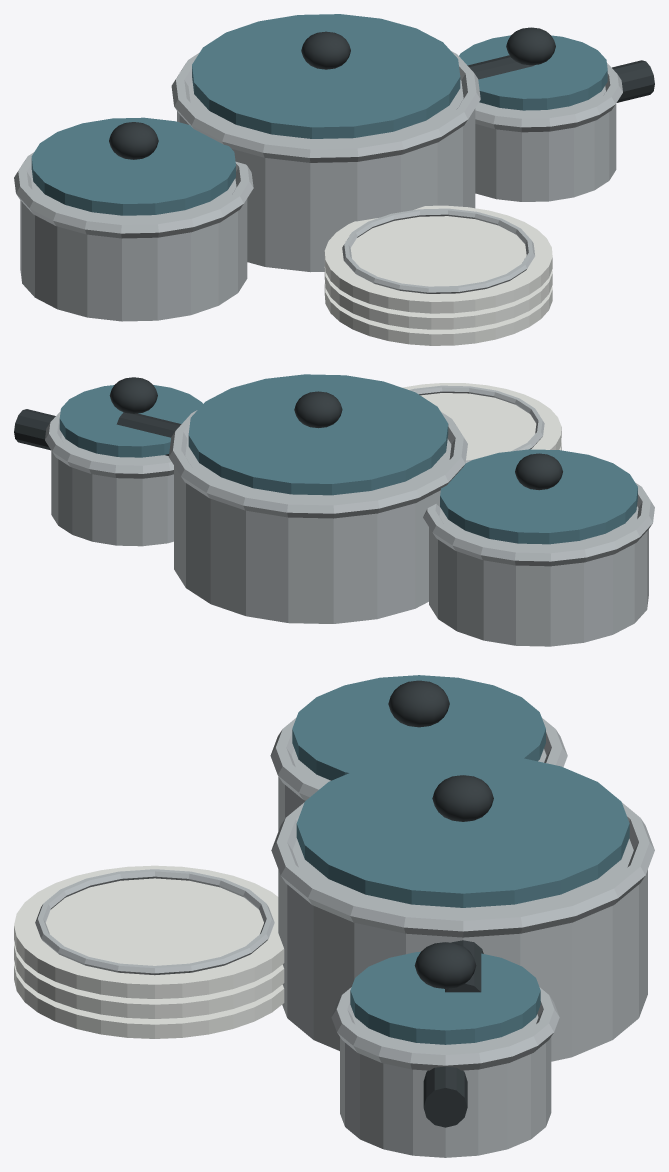
File: pots_and_plates_silver.glb
The picture shows the model from 3 angles, top to bottom: view 1: azimuth 30°, elevation 25°; view 2: azimuth 150°, elevation 25°; view 3: azimuth 270°, elevation 25°; orthographic projection. The views are drawn at different scales.
Parts seen in each view (by area): view 1: tempered lid.001, saucepan.001, saucepan, stacked plate.002, tempered lid, saucepan.002, tempered lid.002, rolled rim.001, rolled rim, stacked plate, stacked plate.001, plate rim.002 (+6 smaller); view 2: saucepan.001, tempered lid.001, saucepan, tempered lid, saucepan.002, rolled rim.001, tempered lid.002, stacked plate.002, rolled rim, rolled rim.002, lid knob, lid knob.001 (+4 smaller); view 3: tempered lid.001, saucepan.001, stacked plate.002, saucepan.002, tempered lid, tempered lid.002, rolled rim.001, rolled rim.002, stacked plate.001, stacked plate, plate rim.002, pan handle.002 (+6 smaller).
Boxes of the visible parts, left/top/right/bottom form: tempered lid.001: left=192, top=14, right=460, bottom=138; saucepan.001: left=177, top=80, right=475, bottom=272; saucepan: left=20, top=176, right=247, bottom=321; stacked plate.002: left=324, top=205, right=552, bottom=313; tempered lid: left=31, top=117, right=235, bottom=215; saucepan.002: left=475, top=86, right=616, bottom=201; tempered lid.002: left=459, top=35, right=607, bottom=110; rolled rim.001: left=171, top=51, right=480, bottom=162; rolled rim: left=14, top=152, right=253, bottom=238; stacked plate: left=324, top=283, right=552, bottom=345; stacked plate.001: left=324, top=267, right=552, bottom=329; plate rim.002: left=342, top=208, right=534, bottom=293; saucepan.001: left=174, top=438, right=451, bottom=623; tempered lid.001: left=188, top=374, right=448, bottom=495; saucepan: left=429, top=506, right=648, bottom=646; tempered lid: left=440, top=449, right=637, bottom=544; saucepan.002: left=51, top=433, right=173, bottom=546; rolled rim.001: left=169, top=410, right=467, bottom=518; tempered lid.002: left=59, top=385, right=202, bottom=457; stacked plate.002: left=402, top=383, right=561, bottom=460; rolled rim: left=423, top=483, right=654, bottom=566; rolled rim.002: left=45, top=411, right=173, bottom=478; lid knob: left=515, top=453, right=562, bottom=490; lid knob.001: left=294, top=391, right=342, bottom=428; tempered lid.001: left=296, top=753, right=629, bottom=907; saucepan.001: left=278, top=839, right=647, bottom=1061; stacked plate.002: left=14, top=865, right=284, bottom=998; saucepan.002: left=340, top=1014, right=551, bottom=1157; tempered lid: left=292, top=675, right=545, bottom=780; tempered lid.002: left=350, top=951, right=540, bottom=1044; rolled rim.001: left=271, top=802, right=654, bottom=937; rolled rim.002: left=331, top=987, right=559, bottom=1070; stacked plate.001: left=14, top=943, right=284, bottom=1018; stacked plate: left=14, top=963, right=284, bottom=1038; plate rim.002: left=35, top=869, right=274, bottom=975; pan handle.002: left=423, top=1066, right=467, bottom=1127.
Size of the model in its own units: 1.01 by 0.27 by 0.7278.
